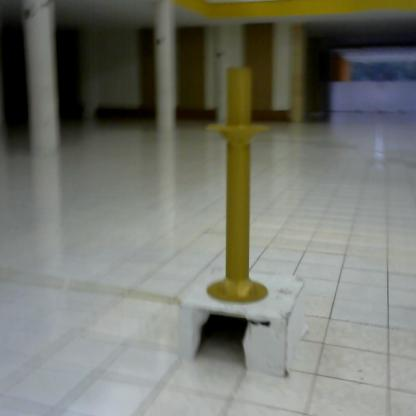pole: (200, 64, 273, 310)
